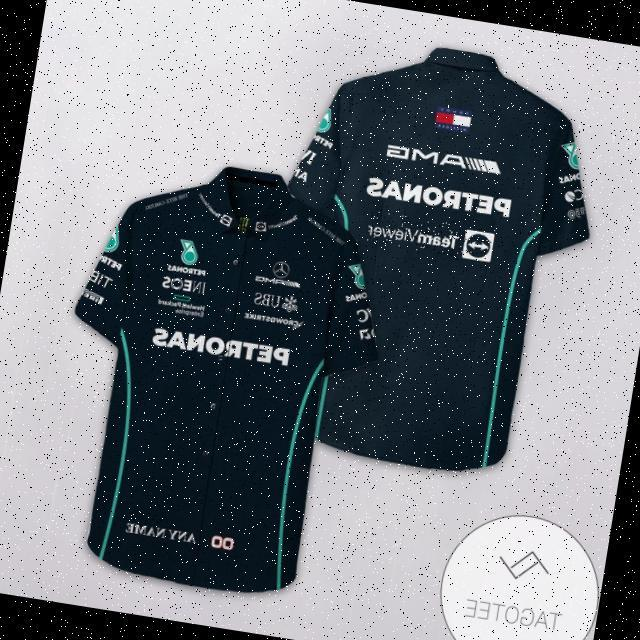TeamViewer: (365, 211, 496, 263)
